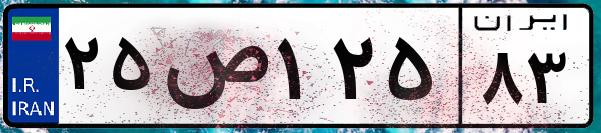1: (270, 28, 330, 110)
2: (330, 28, 385, 110), (57, 26, 110, 100)
3: (525, 38, 570, 115)
5: (385, 28, 445, 110), (110, 28, 158, 98)
8: (475, 38, 525, 113)
ص: (158, 20, 270, 120)
